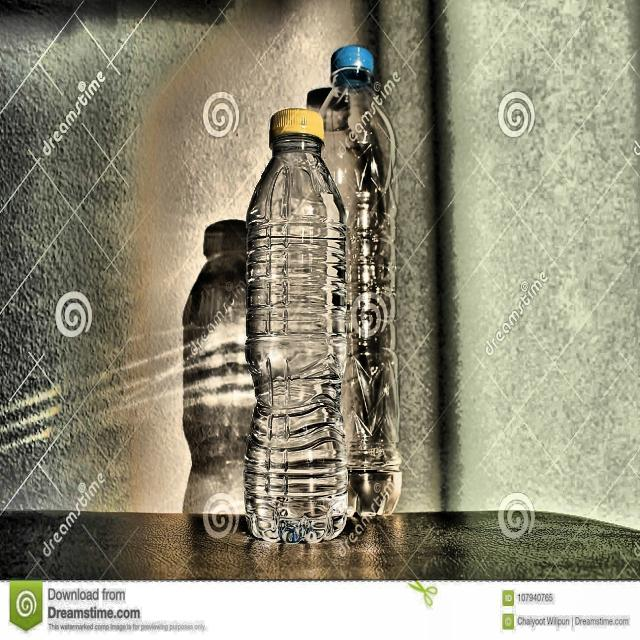Bottles: (234, 100, 356, 550)
